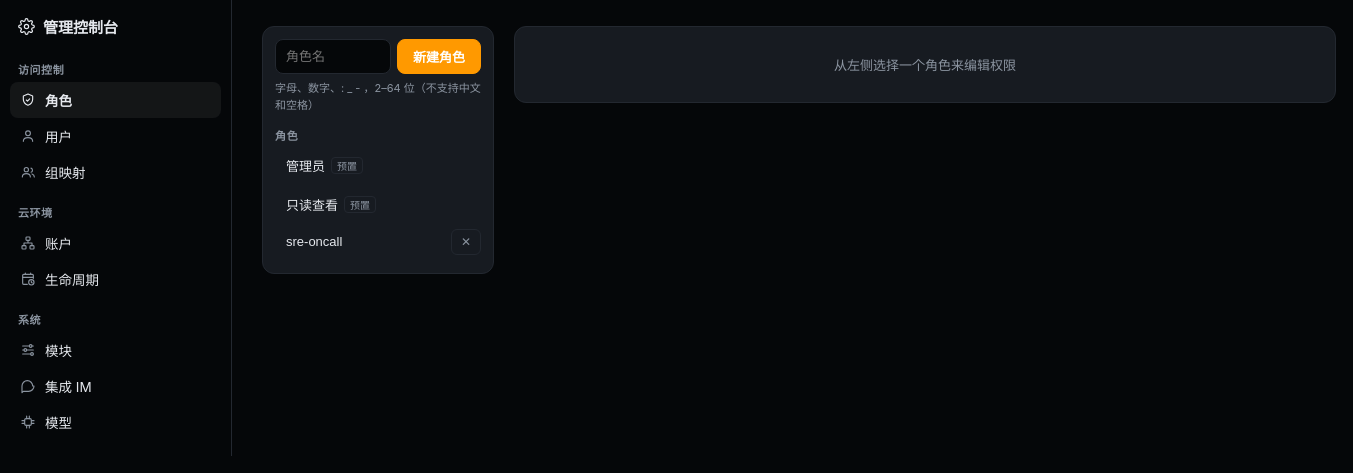
Test: 管理 → 角色 → 新建角色 › 改动输入框会清掉上一条错误（否则改对了还挂着旧报错）
Check: the text "sre-oncall" is shown, box top-left (286, 234), bottom-right (342, 249)
Click the button "新建角色".
click(439, 56)  # box top-left (397, 39), bottom-right (481, 74)
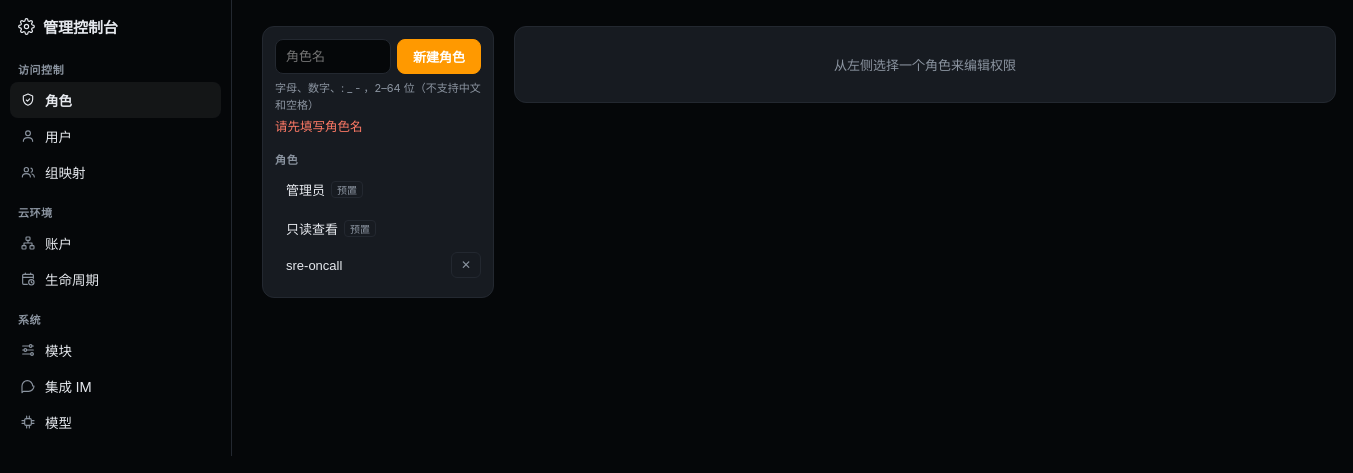
Check: the text "请先填写角色名" is shown, box top-left (275, 119), bottom-right (362, 134)
Type "s" into the field with placeholder "角色名".
click(333, 56); type("s")  # box top-left (275, 39), bottom-right (391, 74)
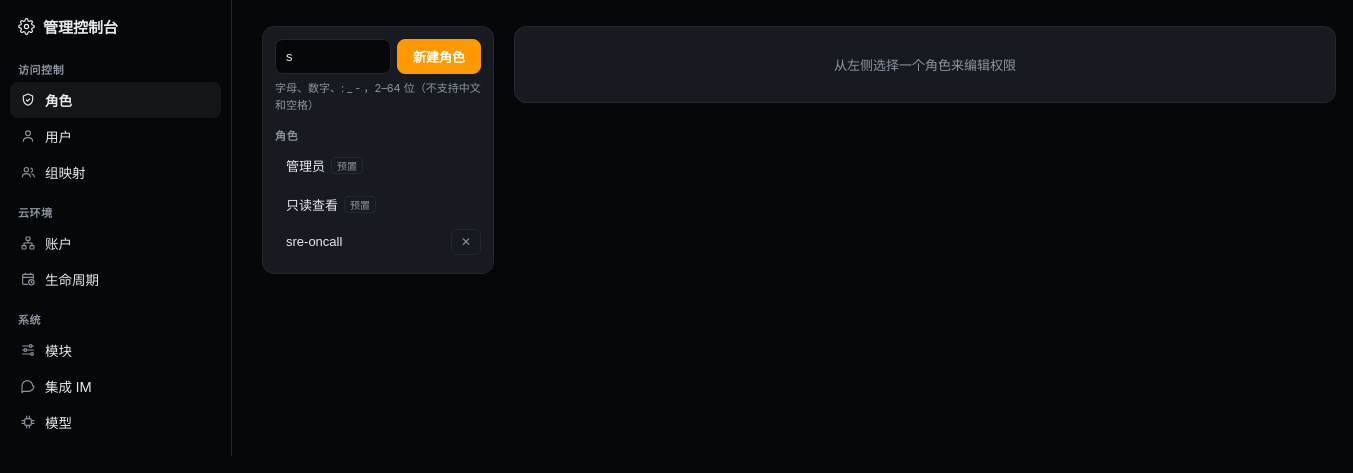
Check: the text "请先填写角色名" is gone
